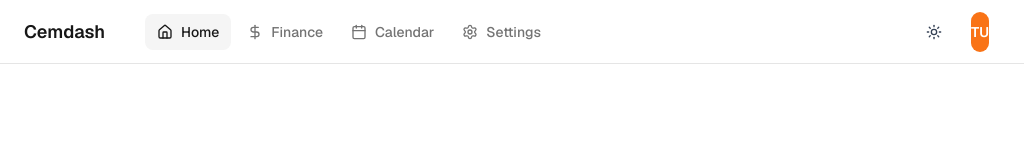
Scenario: ThemeToggle with Tooltip in NavBar › Tooltip Text Content › should display "Switch to light mode" when in dark theme
Hover over the button with test id "theme-toggle".
mouse_move(934, 32)  # box [916,14,952,50]
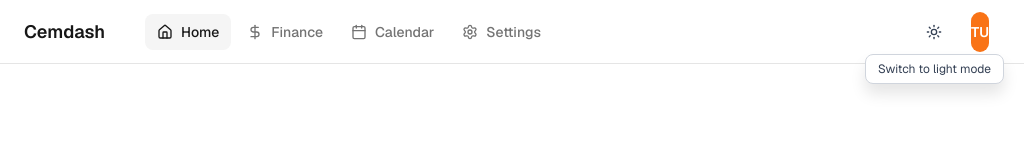
Check: the tooltip reads "Switch to light mode", box [878,61,991,77]
